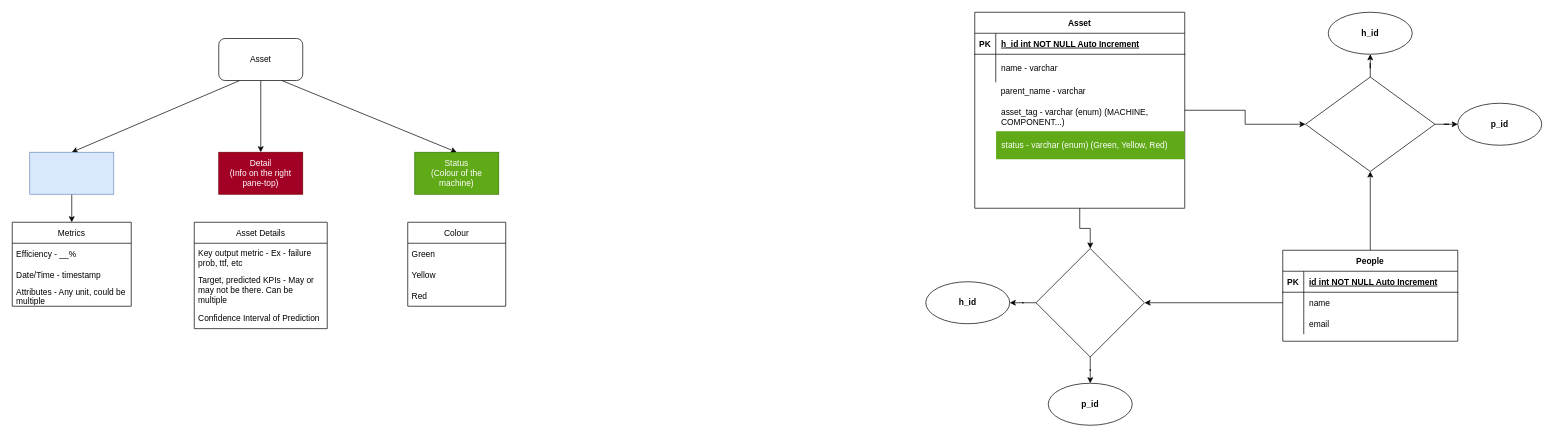
Image size: 1554x438. Some labels were removed from this diagram. Here are the shapes that lost their labels. From the top down, the centre of each, then its label:
the point at 1370,124: Operations Team
the point at 71,173: Overview (Info in the box)
the point at 1089,302: Maintenance Team
